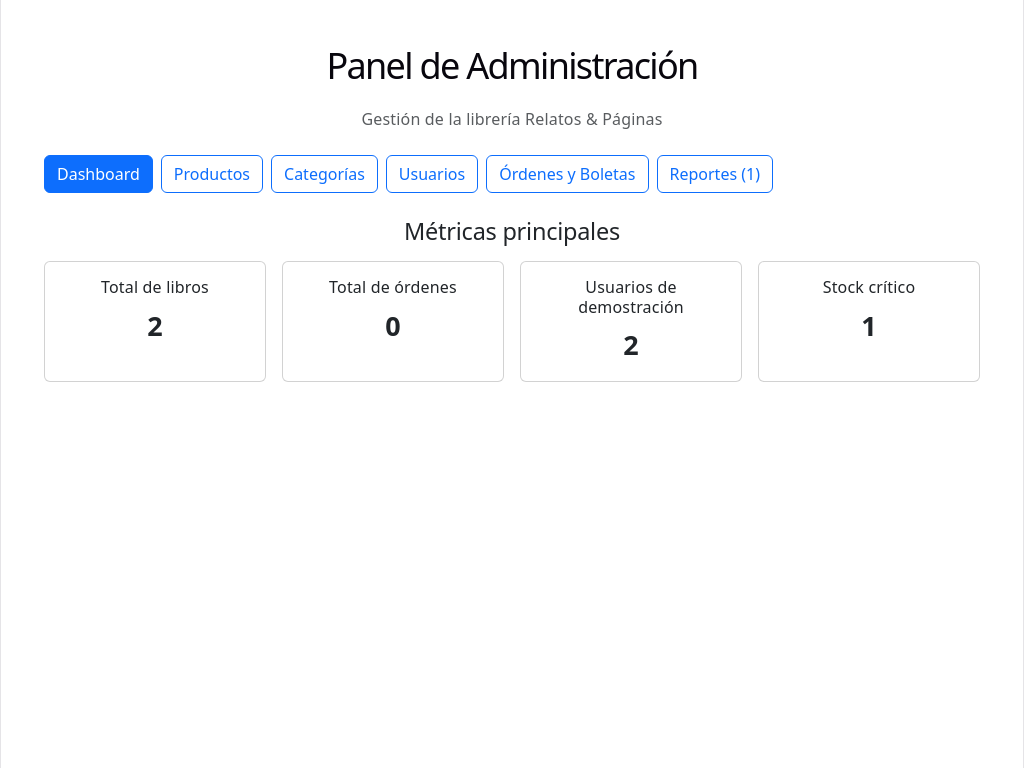
Test case: Pruebas unitarias - Administración de librería › 9. Eliminar un libro después de confirmar
The width and height of the screenshot is (1024, 768).
Click the button "Productos" at (212, 174), box [161,155,263,193]
(page scrolled)
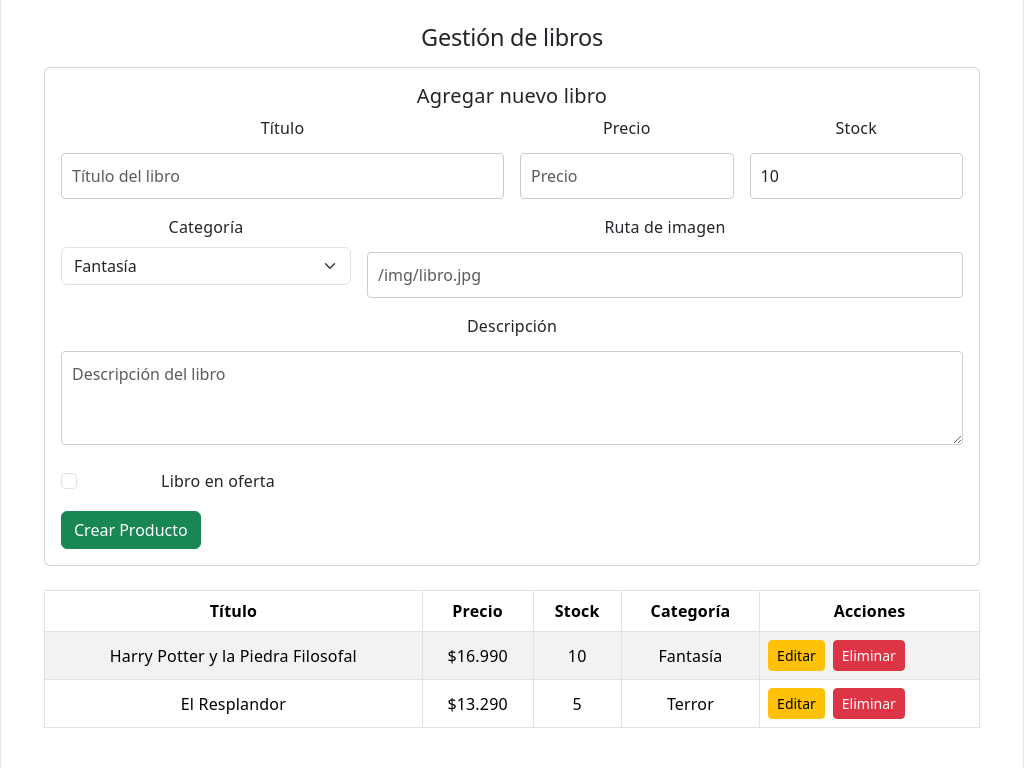
Expected: the number of rows with test id "fila-producto" is 2, [44,632,980,680]; [44,680,980,728]
Click the button "Eliminar" in the row of "Harry Potter y la Piedra Filosofal" at (869, 656), box [833,640,905,671]
(page scrolled)
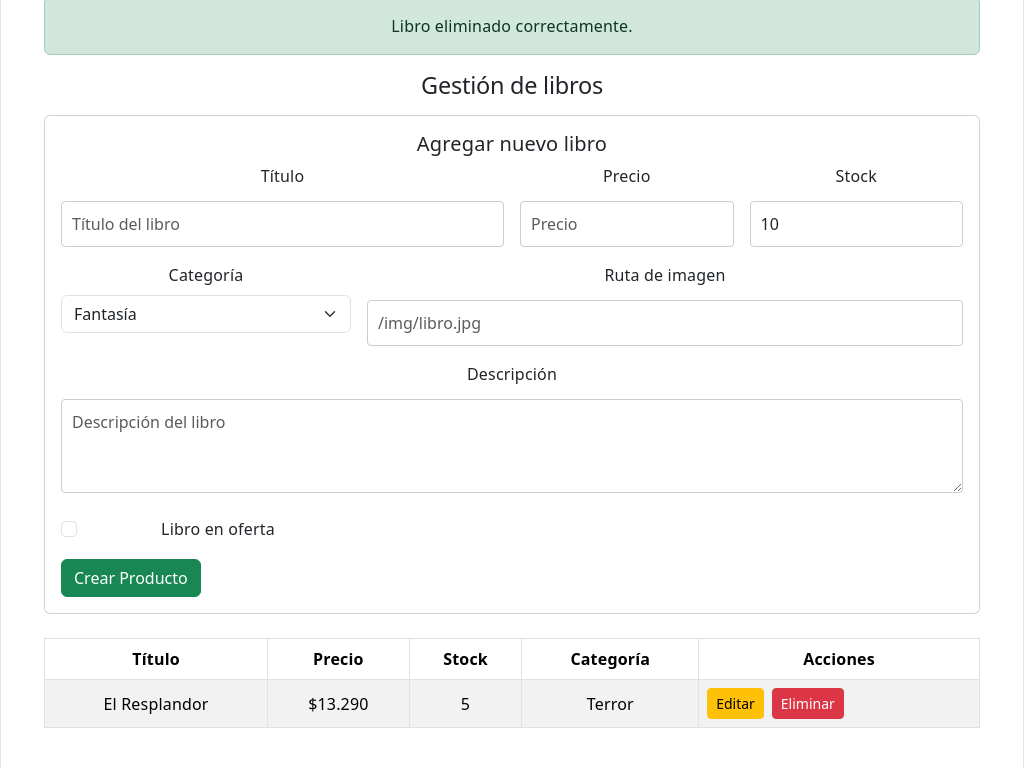
Expected: the number of rows with test id "fila-producto" is 1, [44,680,980,728]
Expected: the text "Harry Potter y la Piedra Filosofal" is gone
